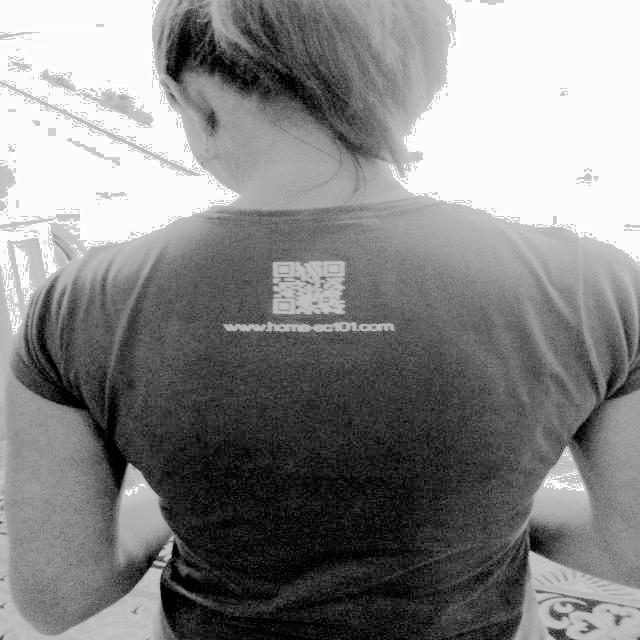qr_code: (273, 262, 345, 314)
